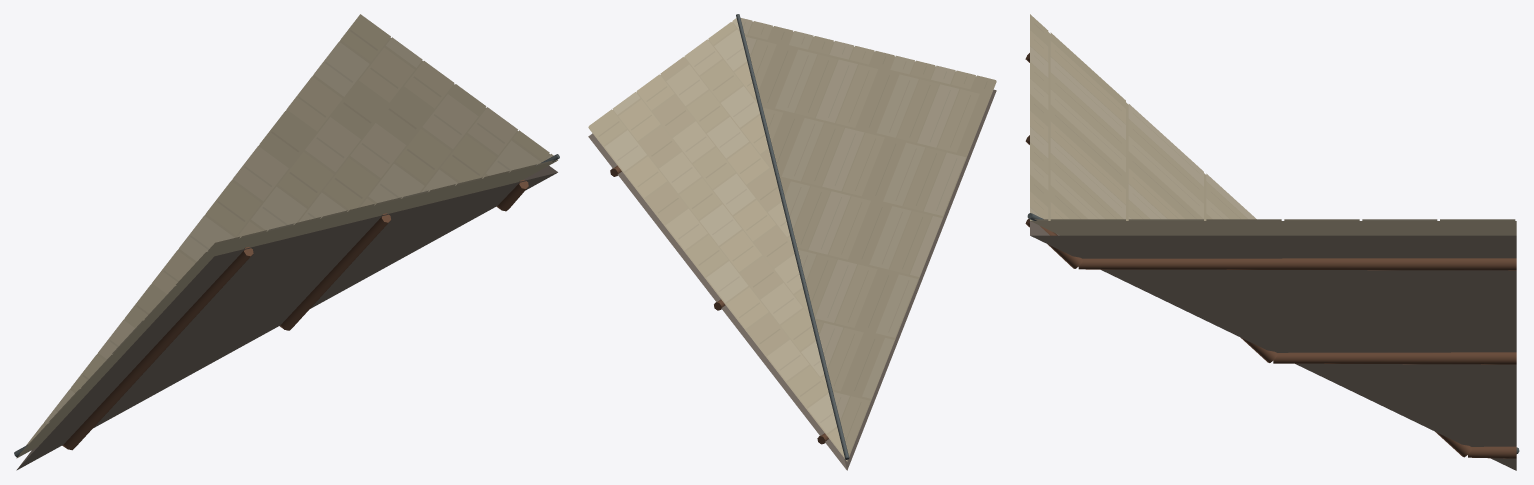
The model's file is Roof_Valley_45.glb.
3 renders of one model, left to right at view 1: azimuth 30°, elevation 25°; view 2: azimuth 150°, elevation 25°; view 3: azimuth 270°, elevation 25°, orthographic. The views are drawn at different scales.
Visible parts, largest first — view 1: _MeshInstance3D_3579, _MeshInstance3D_3581, _MeshInstance3D_3583; view 2: _MeshInstance3D_3579, _MeshInstance3D_3586; view 3: _MeshInstance3D_3579, _MeshInstance3D_3584, _MeshInstance3D_3582, _MeshInstance3D_3580.
Part boxes in pixels (<box>): _MeshInstance3D_3579: <box>16,14,557,470</box>; _MeshInstance3D_3581: <box>64,247,253,450</box>; _MeshInstance3D_3583: <box>281,213,390,330</box>; _MeshInstance3D_3579: <box>588,17,996,470</box>; _MeshInstance3D_3586: <box>736,14,849,459</box>; _MeshInstance3D_3579: <box>1030,14,1516,470</box>; _MeshInstance3D_3584: <box>1078,258,1516,270</box>; _MeshInstance3D_3582: <box>1273,352,1516,364</box>; _MeshInstance3D_3580: <box>1468,446,1516,458</box>.
Size of the model in its own units: 3.03 by 3.15 by 3.05.
